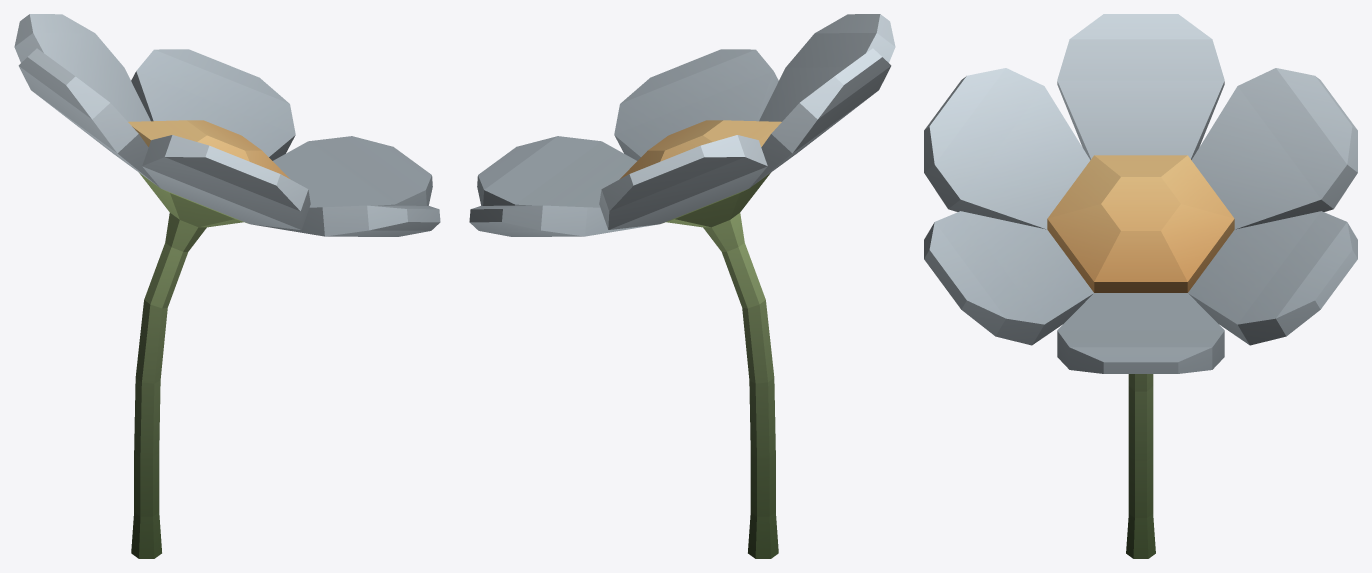
File: kwiatek1.fbx
3 views of the same model, side by side, from view 1: azimuth 30°, elevation 25°; view 2: azimuth 150°, elevation 25°; view 3: azimuth 270°, elevation 25° (orthographic). The views are drawn at different scales.
Parts seen in each view (by area): view 1: kwiatek1, łodyga.003; view 2: kwiatek1, łodyga.003; view 3: kwiatek1, łodyga.003.
Boxes of the visible parts, x1,y1,x2,y2 form: kwiatek1: (14,14,440,236); łodyga.003: (128,120,289,558); kwiatek1: (469,14,895,236); łodyga.003: (620,120,781,558); kwiatek1: (924,14,1357,373); łodyga.003: (1047,155,1234,558).
Bounding box in the file's own units: 438 × 586 × 464.
